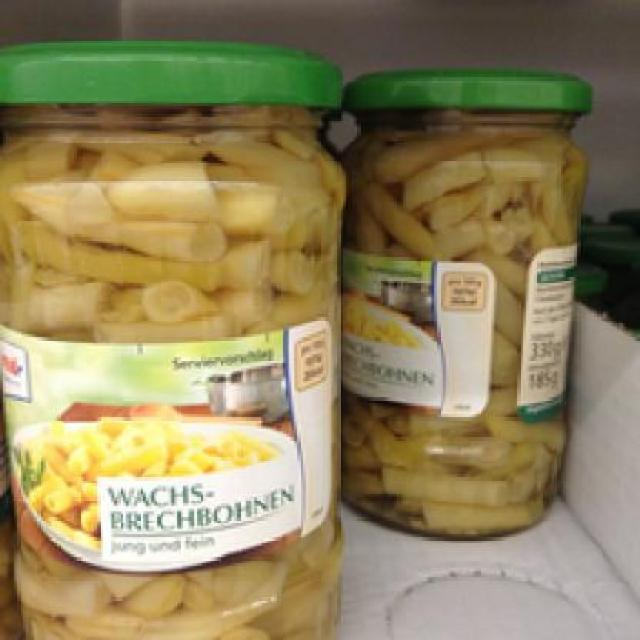Beans: (0, 40, 343, 637), (348, 66, 578, 540)
